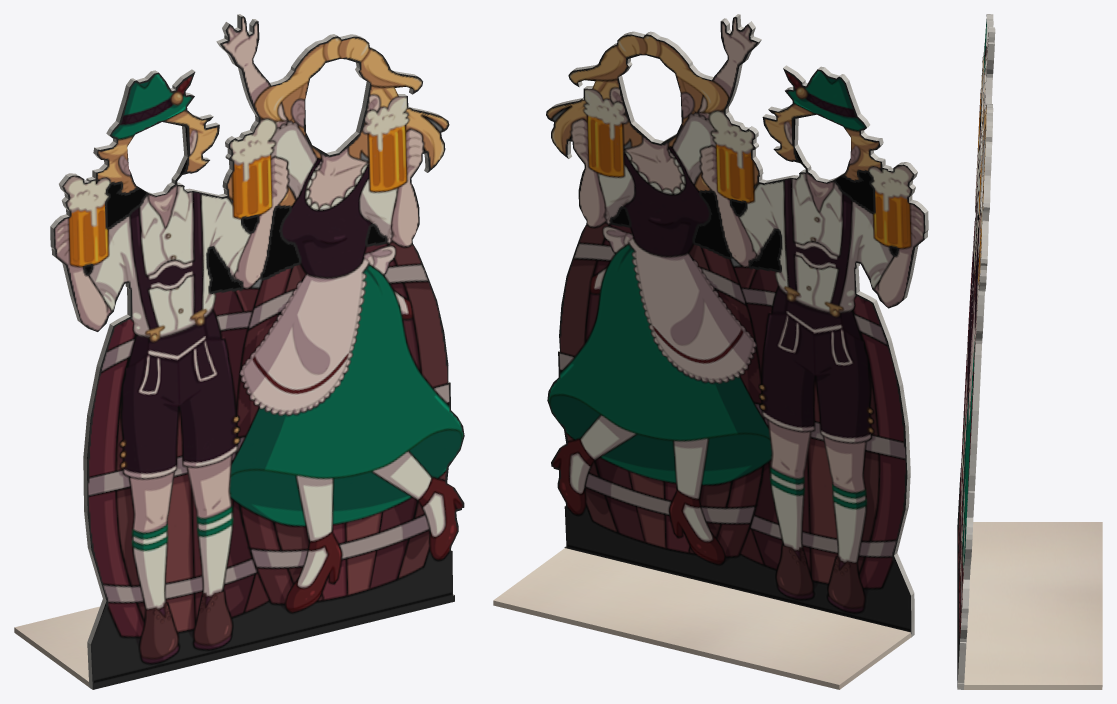
File: BoardCutout_Art.fbx
3 views of the same model, side by side, from view 1: azimuth 30°, elevation 25°; view 2: azimuth 150°, elevation 25°; view 3: azimuth 270°, elevation 25° (orthographic). The views are drawn at different scales.
Parts seen in each view (by area): view 1: Oktoberfest_BoardCutout; view 2: Oktoberfest_BoardCutout; view 3: Oktoberfest_BoardCutout.
Part boxes in pixels (x1,y1,x2,y2): Oktoberfest_BoardCutout: (14,14,464,689); Oktoberfest_BoardCutout: (493,14,928,689); Oktoberfest_BoardCutout: (957,14,1102,689).
Bounding box in the file's own units: 133 × 196 × 45.04.
